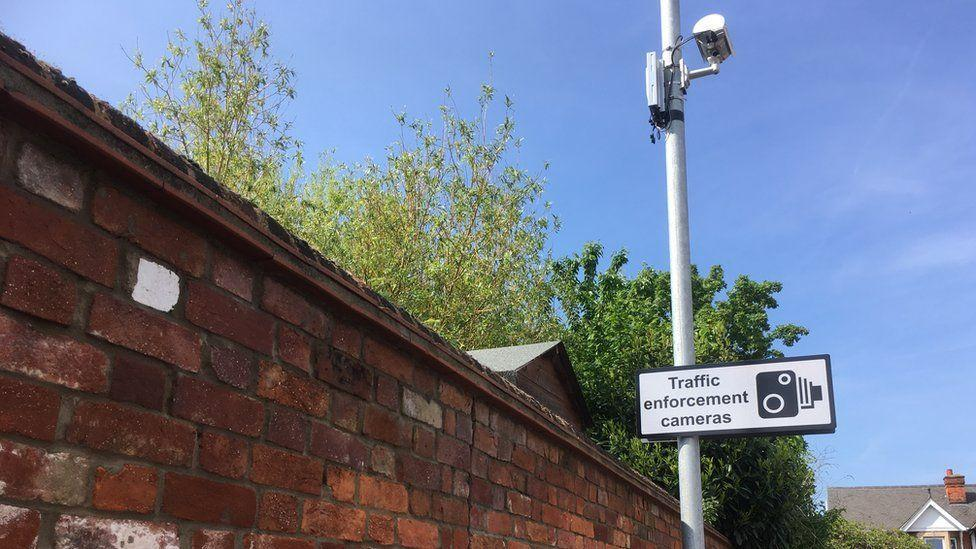Monitor: (691, 13, 733, 66)
